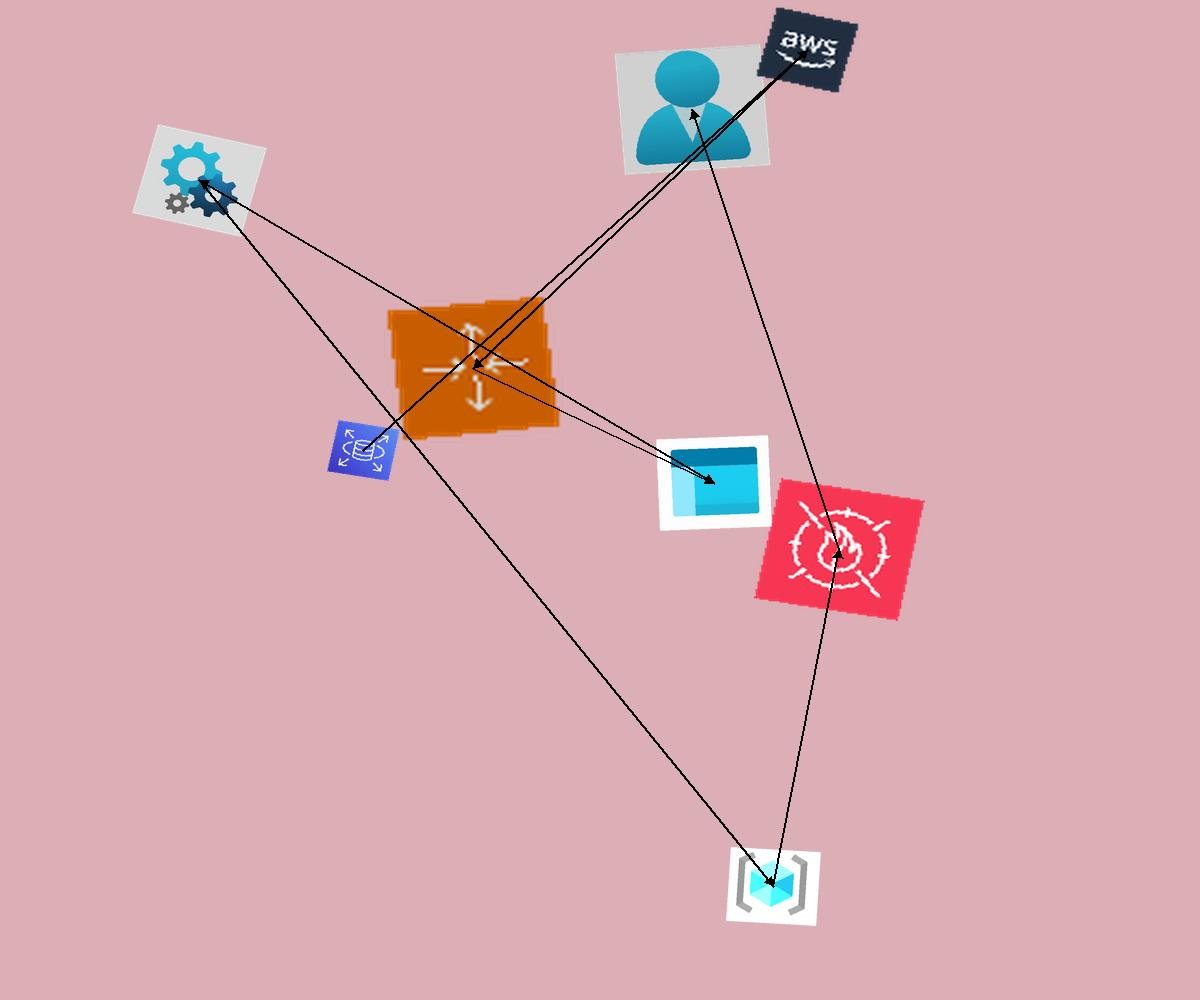AWS-Cloud-logo: (755, 6, 860, 94)
AWS-RDS: (327, 420, 400, 481)
AWS-Scaling-group: (384, 294, 563, 443)
AWS-WAF: (754, 478, 925, 621)
Azure_api: (132, 124, 267, 237)
Azure_management-portal: (656, 435, 772, 531)
Azure_resource_group: (726, 847, 821, 926)
Azure_users: (614, 44, 771, 175)
